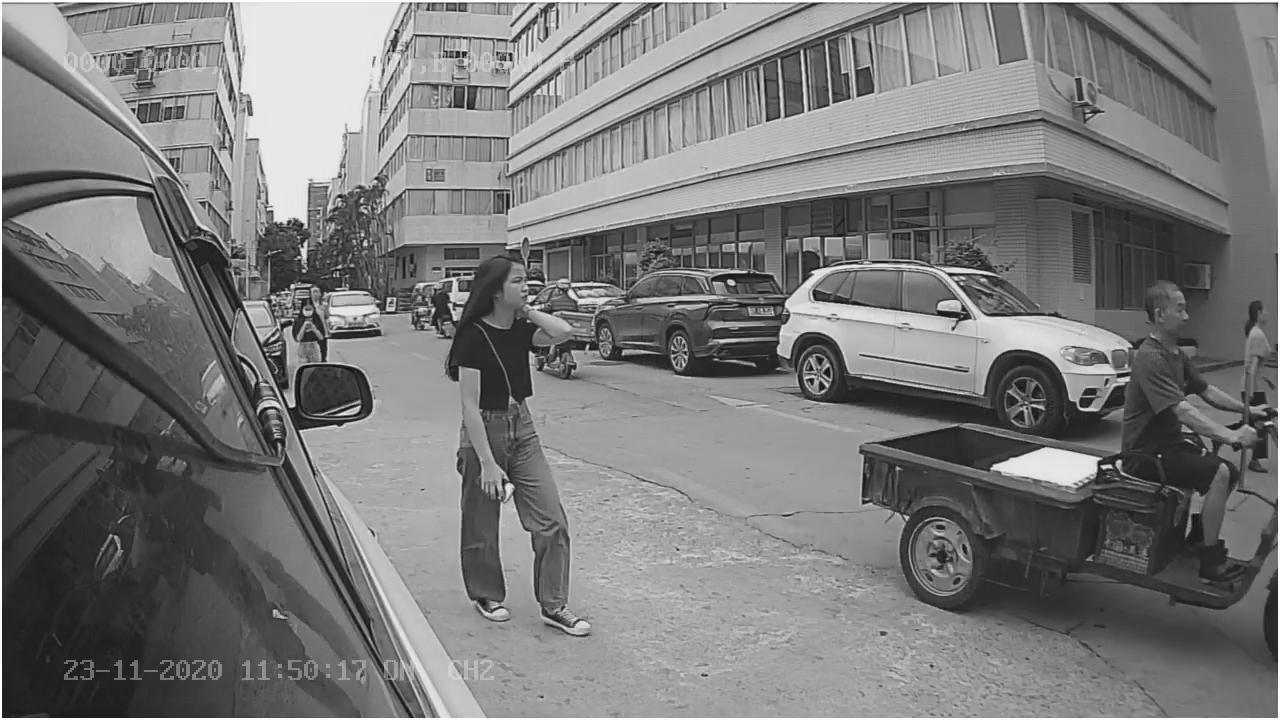person: (449, 251, 588, 637), (1121, 279, 1263, 438)
